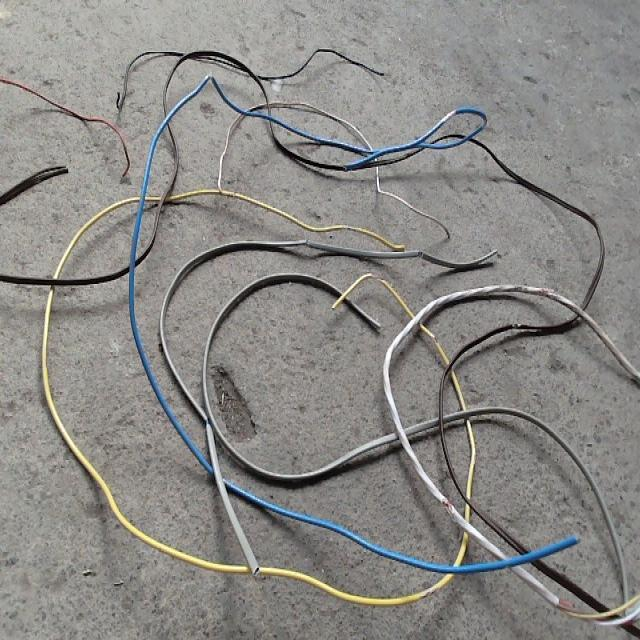-: (442, 496, 454, 513), (440, 108, 455, 121), (540, 286, 555, 298), (431, 332, 437, 343), (416, 250, 423, 258)
